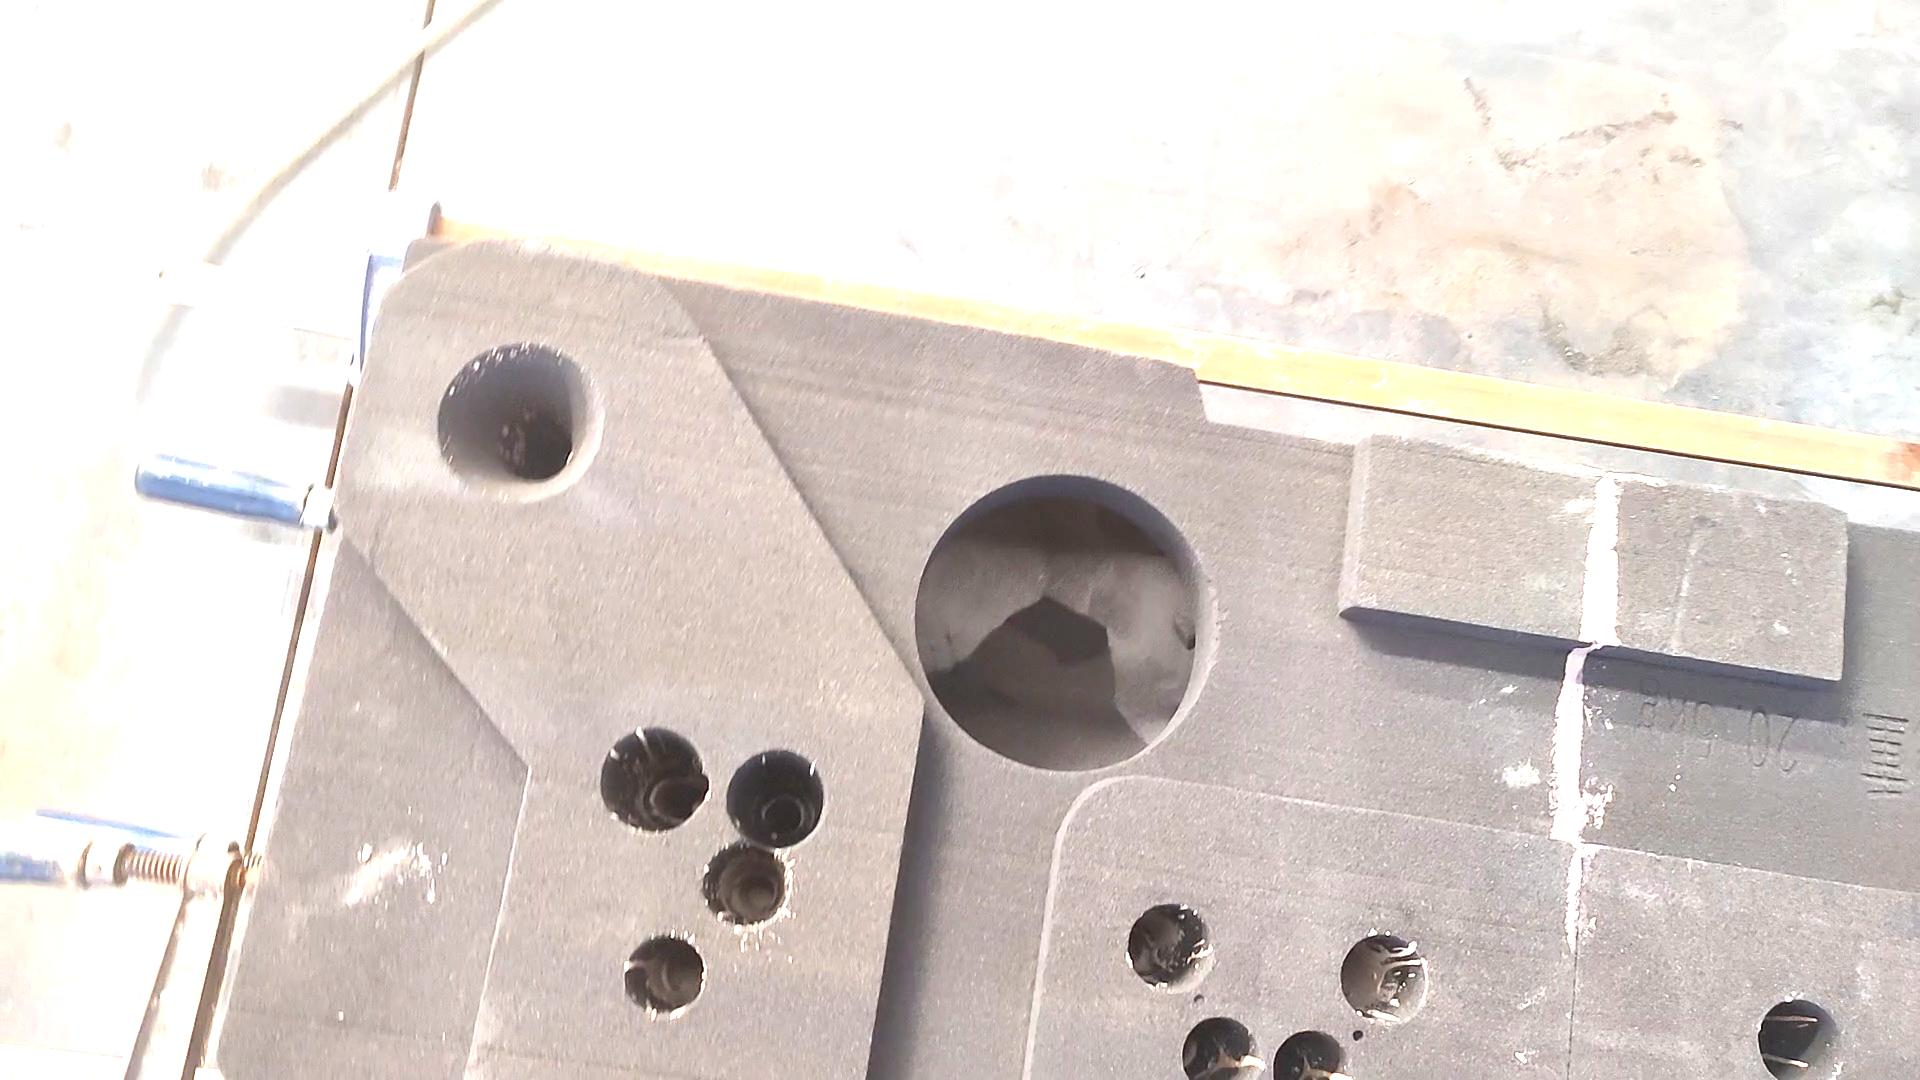pouring hole: (436, 343, 607, 506)
